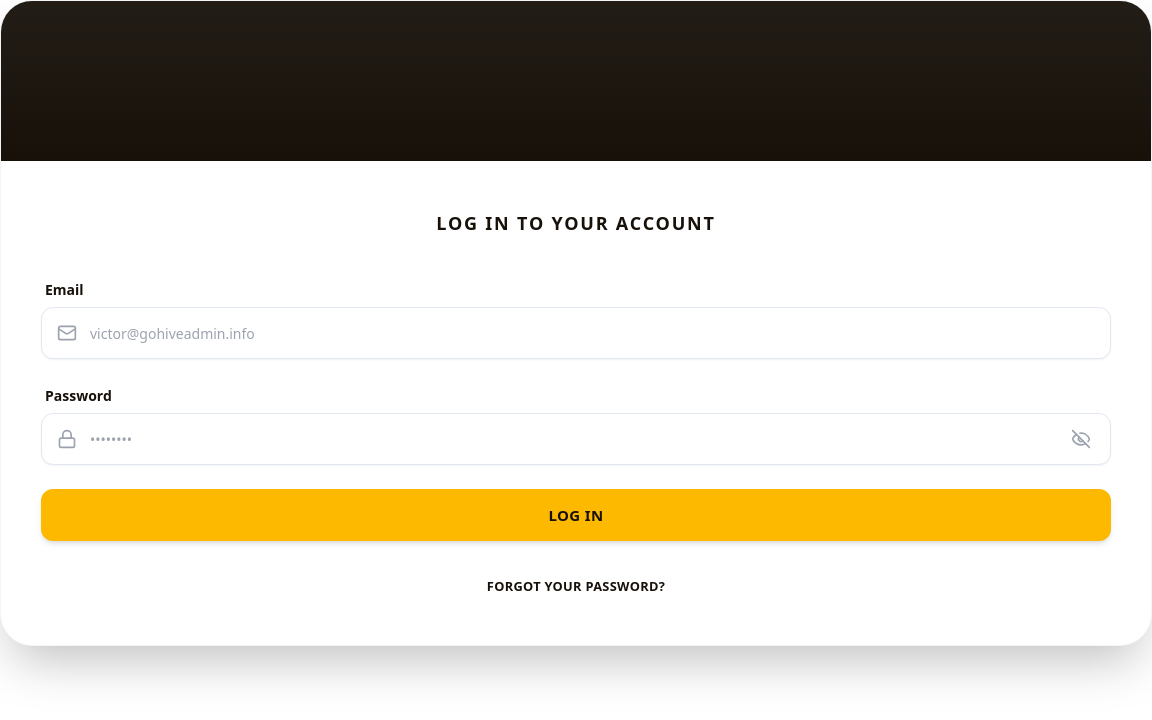
Test case: sign-in › blocks an invalid email before calling the API
Step 1. Type "not-an-email" into the field labelled "Email" → (576, 333), box [41,307,1111,359]
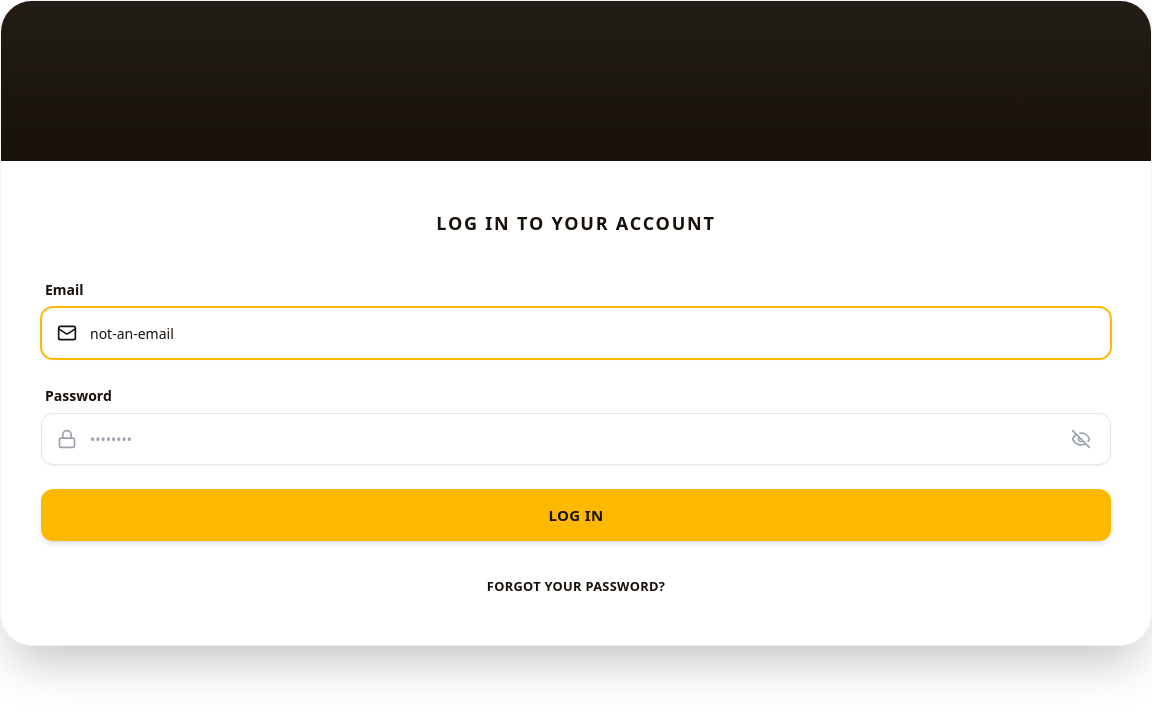
Step 2. Type "secret" into the password field labelled "Password" → (576, 439), box [41,413,1111,465]
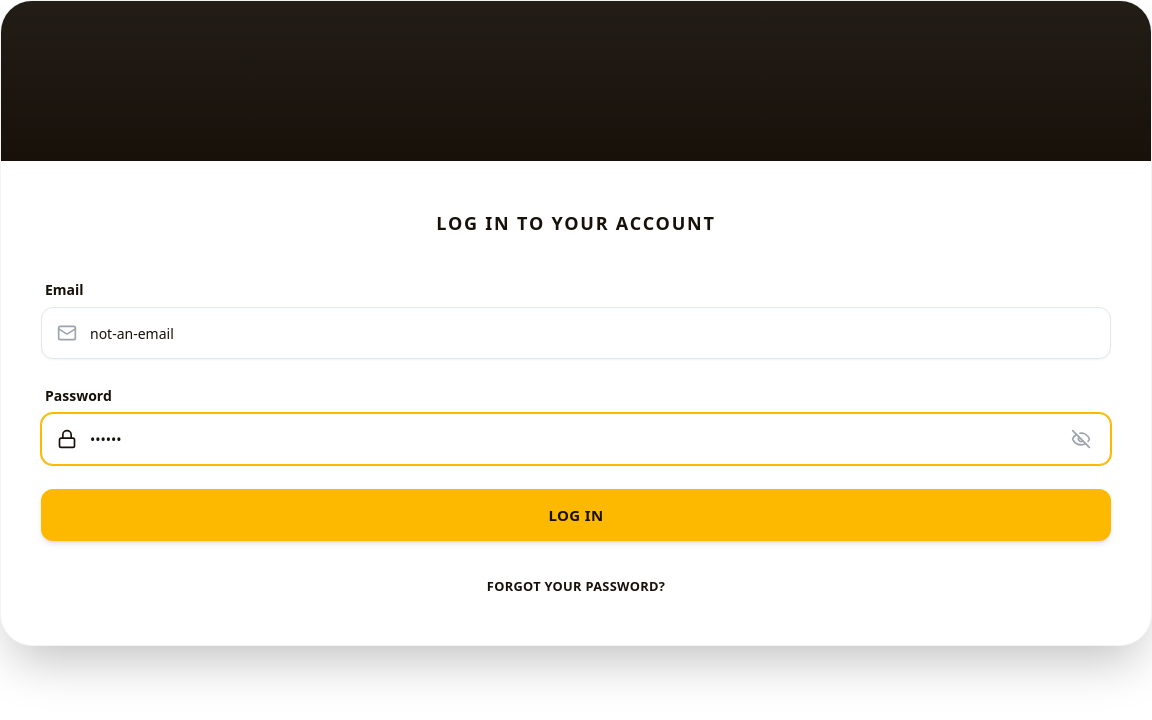
Step 3. Click the button "Log in" → (576, 515), box [41,489,1111,541]
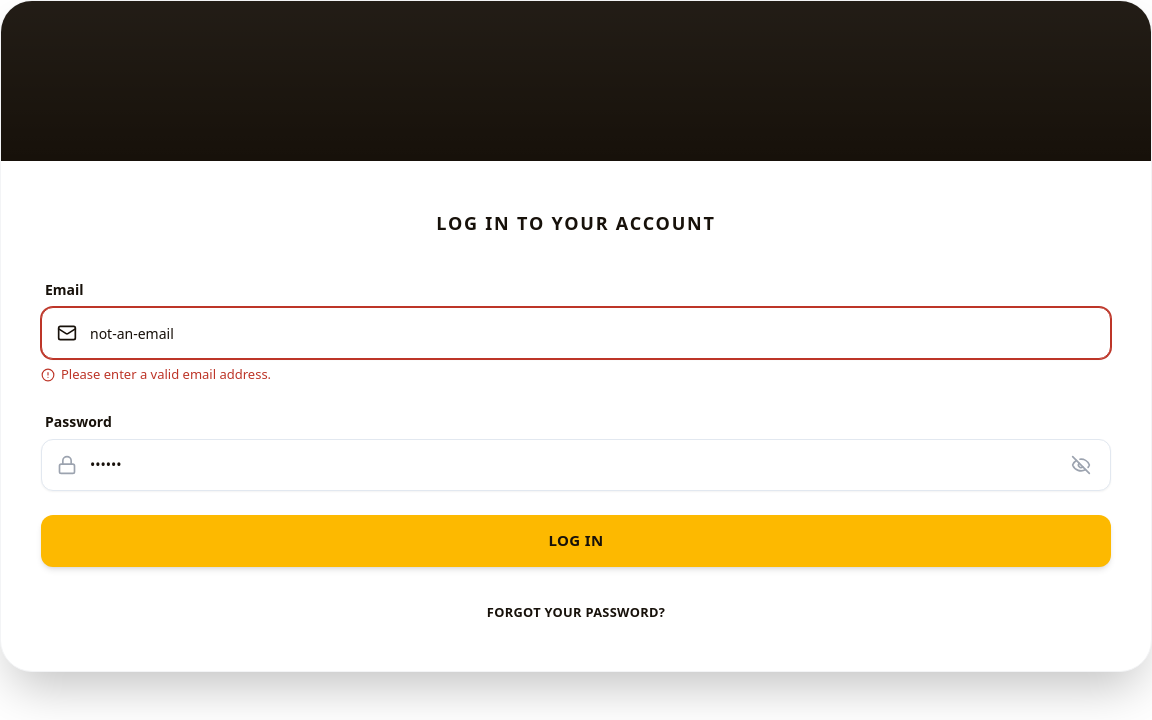
Check: the text "Please enter a valid email address." is shown, box [41,365,271,383]
